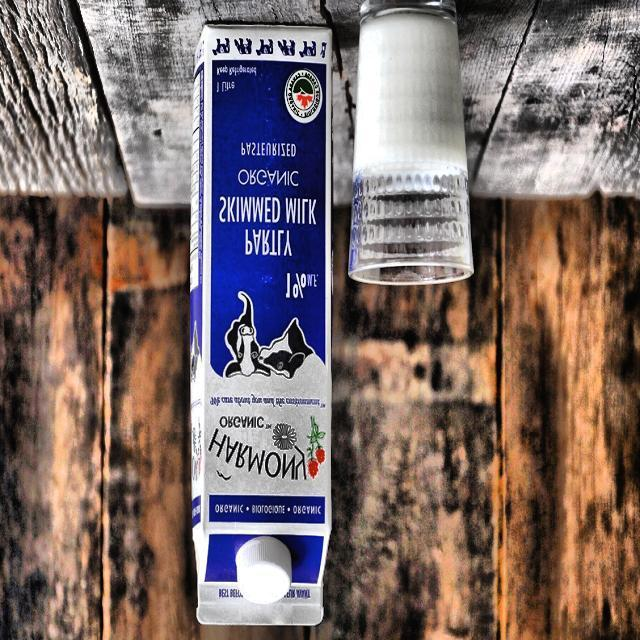cardboard: (188, 23, 334, 628)
